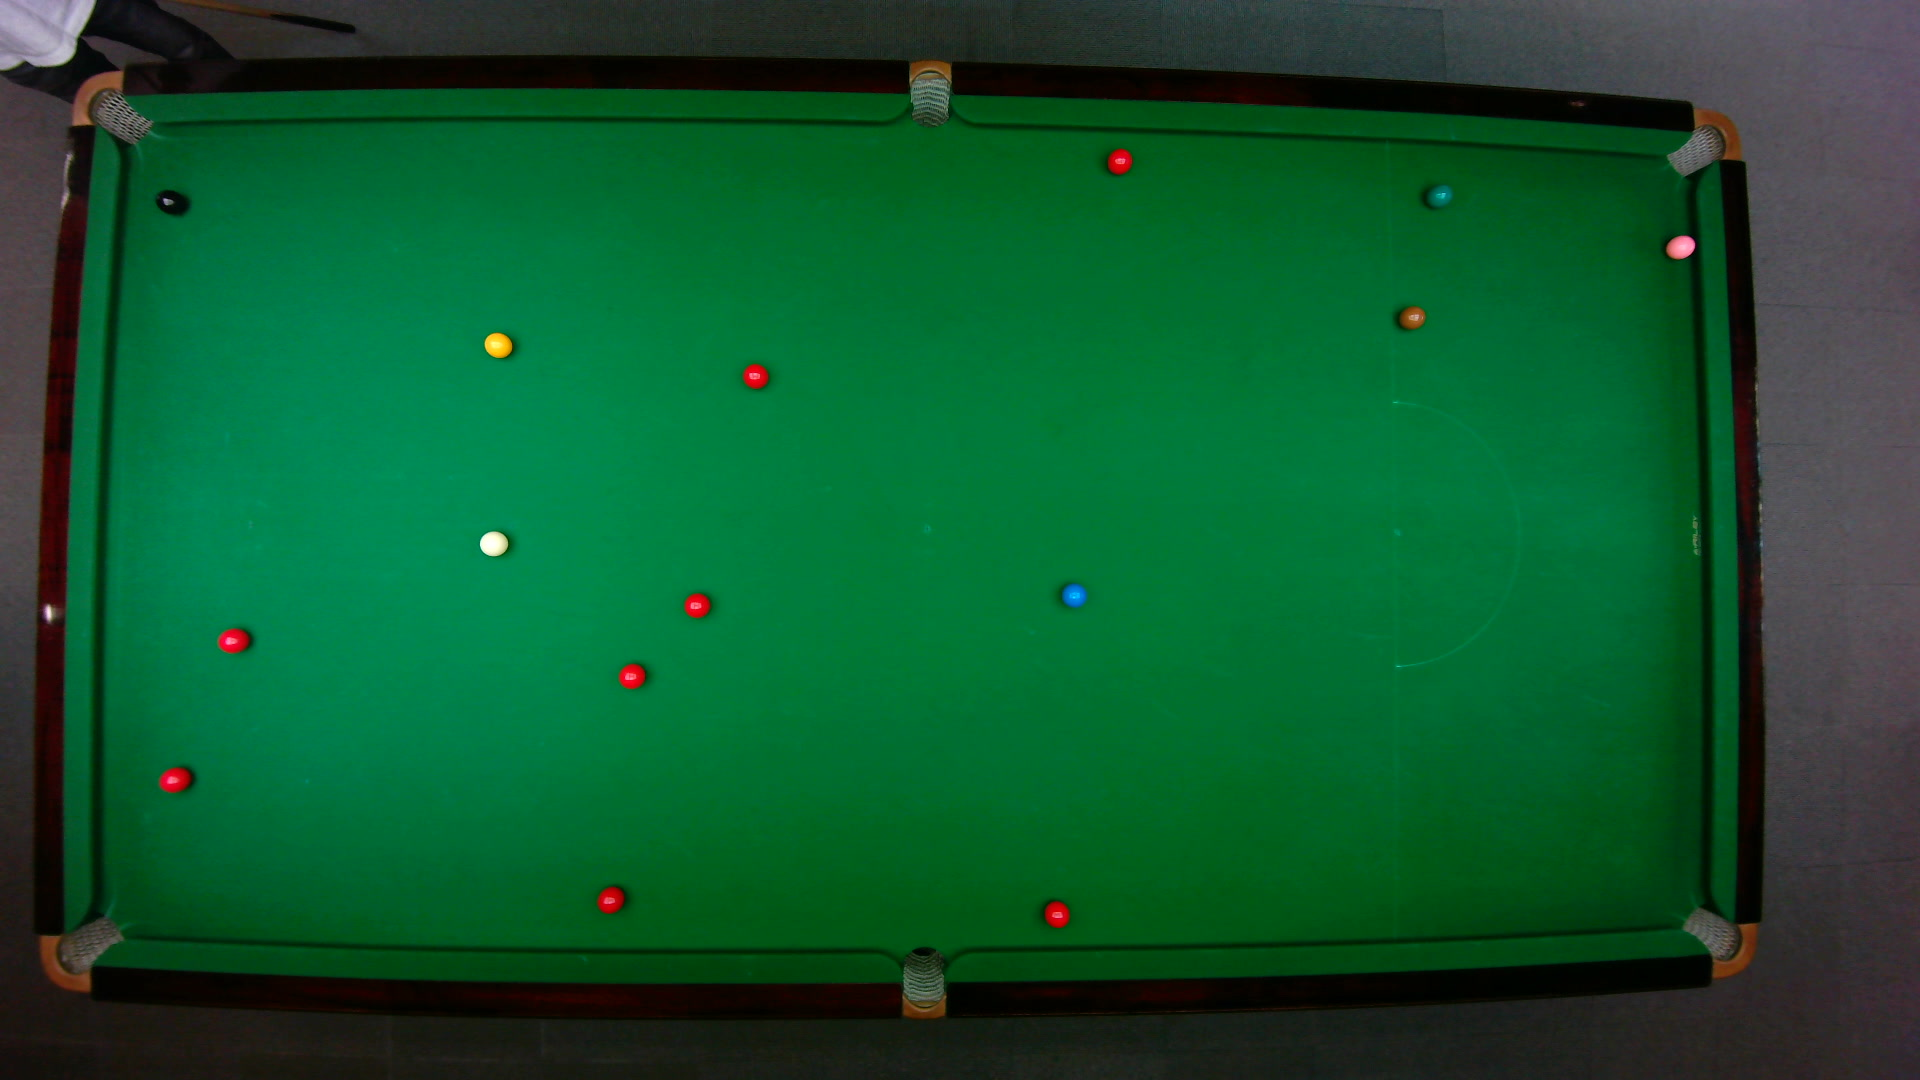bag: (36, 913, 125, 992), (69, 69, 154, 145), (1677, 905, 1758, 978), (1663, 107, 1741, 177), (899, 944, 944, 1021), (909, 57, 951, 128)
black: (154, 189, 186, 215)
blue: (1059, 582, 1087, 608)
brown: (1396, 305, 1427, 330)
green: (1423, 182, 1453, 208)
pink: (1663, 232, 1697, 260)
red: (156, 765, 193, 793), (215, 626, 251, 653), (595, 884, 625, 914), (616, 661, 647, 690), (1105, 146, 1133, 175), (1042, 899, 1069, 928), (682, 591, 709, 618), (741, 363, 767, 388)
white: (476, 527, 509, 556)
yellow: (483, 330, 513, 357)
zone: (1390, 400, 1519, 669)
